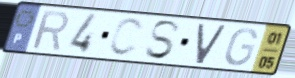4: (66, 12, 100, 57)
C: (106, 16, 146, 59)
G: (223, 27, 259, 68)
R: (30, 9, 70, 53)
S: (143, 19, 183, 62)
V: (194, 22, 230, 66)
